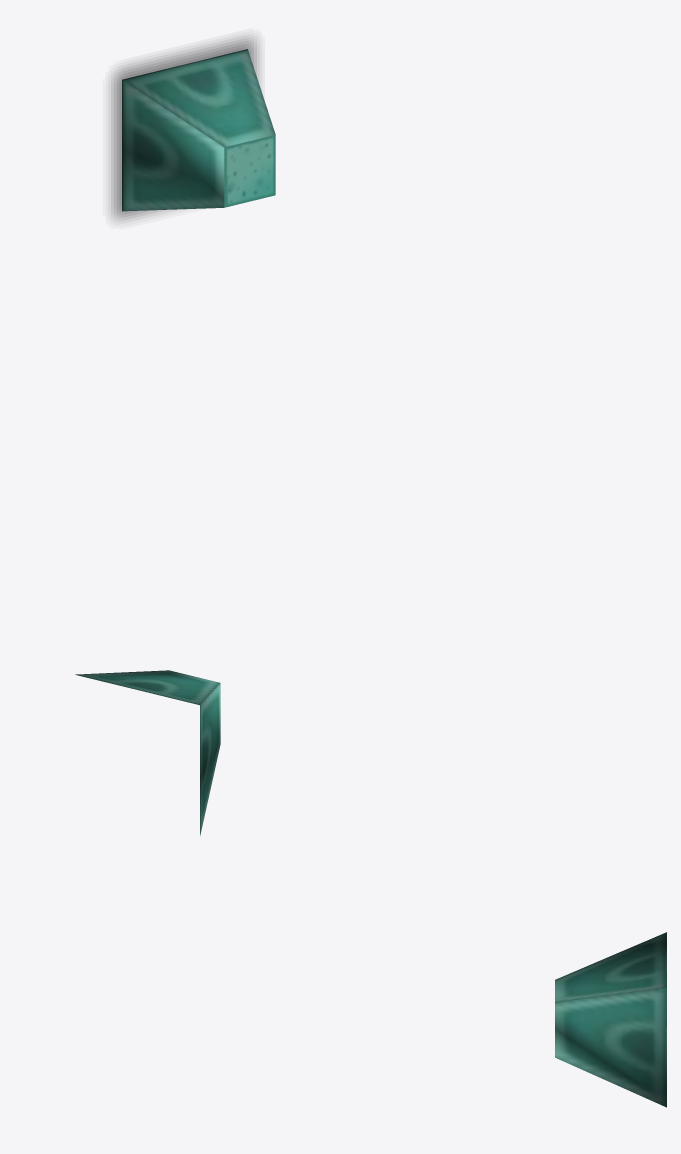
File: prop_post_one_light.glb
3 views of the same model, one above another, from view 1: azimuth 30°, elevation 25°; view 2: azimuth 150°, elevation 25°; view 3: azimuth 270°, elevation 25° (orthographic). The views are drawn at different scales.
Visible parts, largest first — view 1: prop_post_sign_base, g8; view 2: prop_post_sign_base; view 3: prop_post_sign_base.
Part boxes in pixels (x1,y1,x2,y2): prop_post_sign_base: [122, 49, 275, 211]; g8: [111, 35, 259, 221]; prop_post_sign_base: [75, 670, 220, 835]; prop_post_sign_base: [555, 932, 666, 1107].
Bounding box in the file's own units: 5.34 × 3.2 × 11.3.
3 materials, 3 textured.
